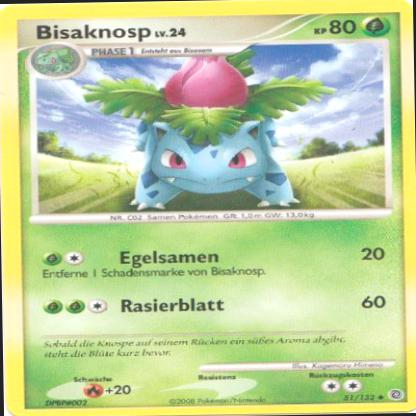Ivysaur: (87, 53, 345, 212)
